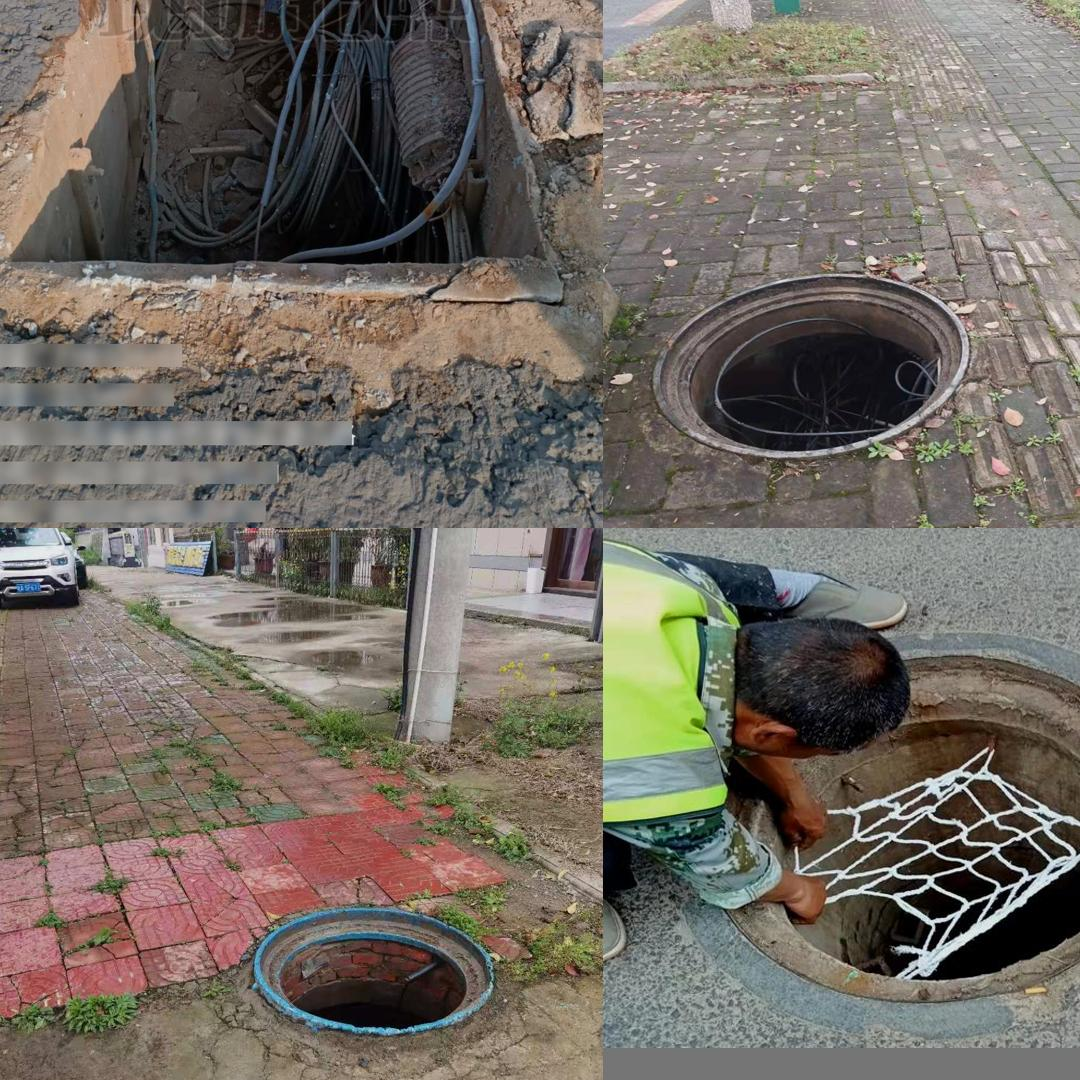lose: (0, 0, 565, 308), (695, 636, 1080, 1013), (649, 272, 969, 464), (256, 907, 496, 1032)
